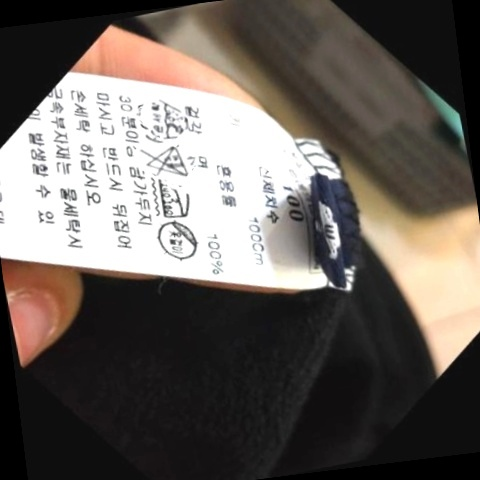hand_wash: (142, 90, 190, 143)
iron_medium: (155, 176, 198, 221)
line_dry_in_shade: (151, 212, 207, 268)
non_chlorine_bleach: (142, 141, 191, 183)
